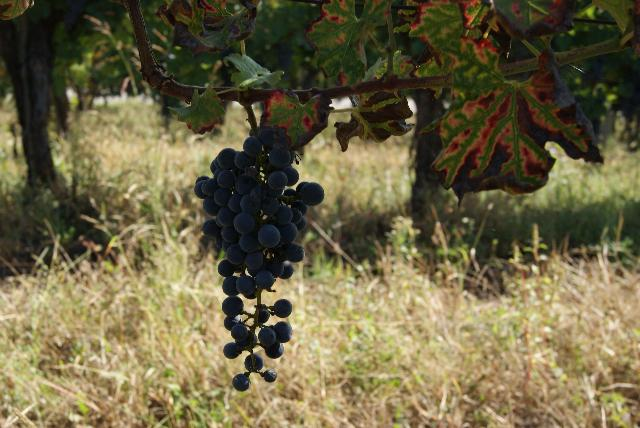grapes: (195, 135, 324, 391)
